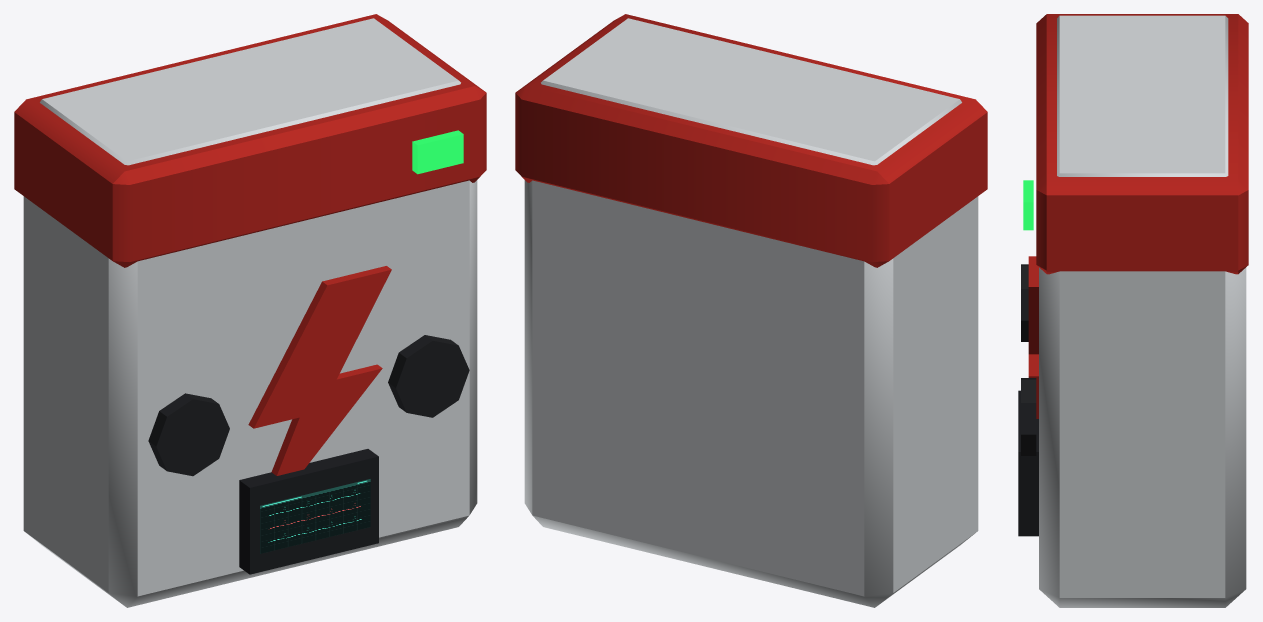
File: safety_defibrillator_station.glb
The picture shows the model from 3 angles, left to right: view 1: azimuth 30°, elevation 25°; view 2: azimuth 150°, elevation 25°; view 3: azimuth 270°, elevation 25°; orthographic projection. The views are drawn at different scales.
Parts seen in each view (by area): view 1: safety_defibrillator_station; view 2: safety_defibrillator_station; view 3: safety_defibrillator_station.
Part boxes in pixels (box(x1,y1,x2,y2)): safety_defibrillator_station: box(14, 14, 486, 607); safety_defibrillator_station: box(515, 14, 987, 607); safety_defibrillator_station: box(1018, 14, 1248, 607).
Bounding box in the file's own units: 0.406 × 0.463 × 0.2245.
6 materials, 1 textured.
